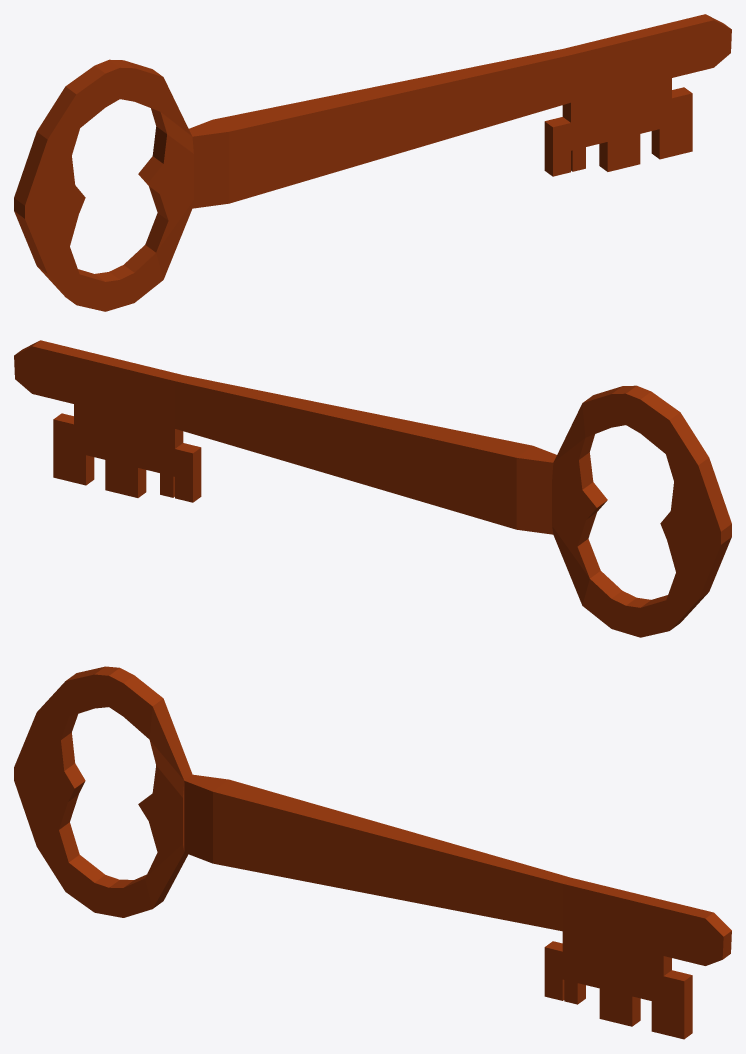
File: Chave Ouro .obj
3 renders of one model, top to bottom at view 1: azimuth 30°, elevation 25°; view 2: azimuth 150°, elevation 25°; view 3: azimuth 330°, elevation 25°, orthographic.
Parts seen in each view (by area): view 1: chave; view 2: chave; view 3: chave.
Boxes of the visible parts, bbox=[...] form: chave: bbox=[14, 14, 731, 311]; chave: bbox=[14, 340, 731, 637]; chave: bbox=[14, 666, 731, 1039].
Size of the model in its own units: 3.9 by 1.26 by 0.1576.
